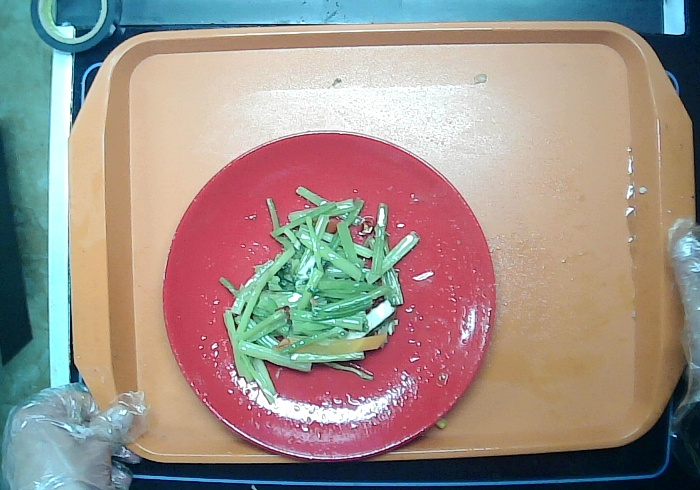HZYJPL-Hong_Se_Yuan_Pan: (151, 110, 503, 468)
